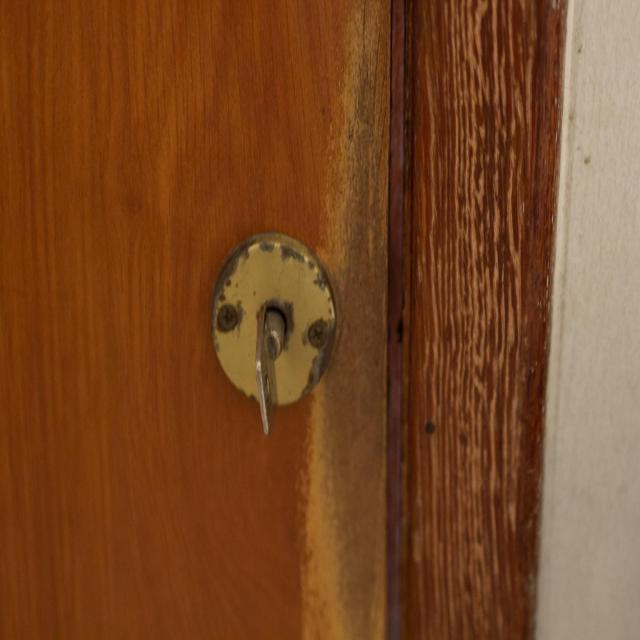Frontdoor keys: (226, 277, 323, 455)
